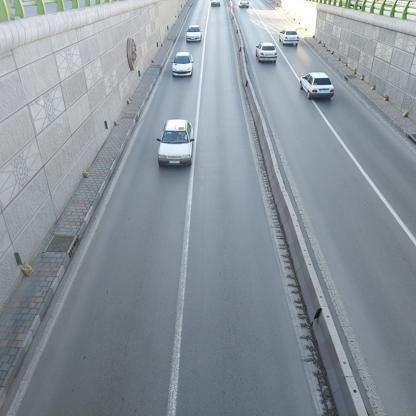Car: (160, 115, 195, 172), (296, 70, 338, 104), (169, 47, 195, 86), (255, 45, 282, 68), (279, 25, 299, 52), (185, 26, 198, 44), (210, 0, 223, 11), (237, 0, 250, 10)
